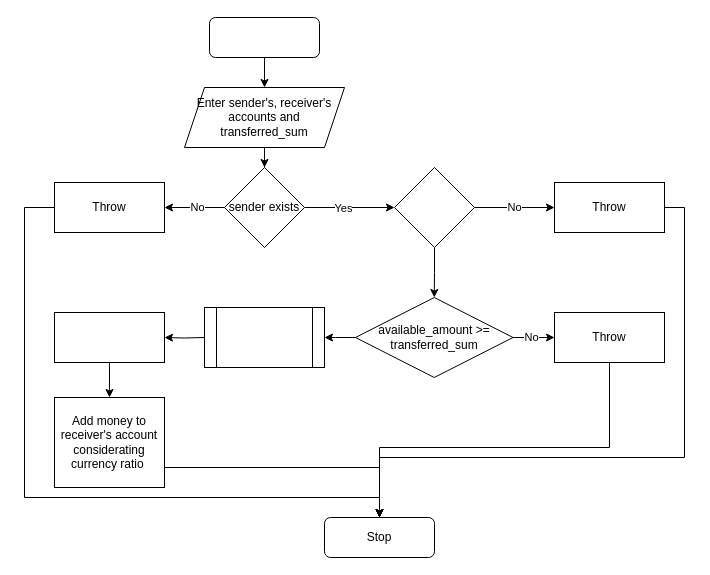
The diagram is 710 pixels wide and 575 high, and some of its shapes have lost their labels. Each missing label, with the box of its shape:
Load relevant data about currency tarriffs, get currency ratio: (204, 306, 324, 368)
receiver exists: (394, 166, 474, 248)
Start: (208, 16, 320, 58)
Subtract money from sender's account: (54, 312, 164, 362)
